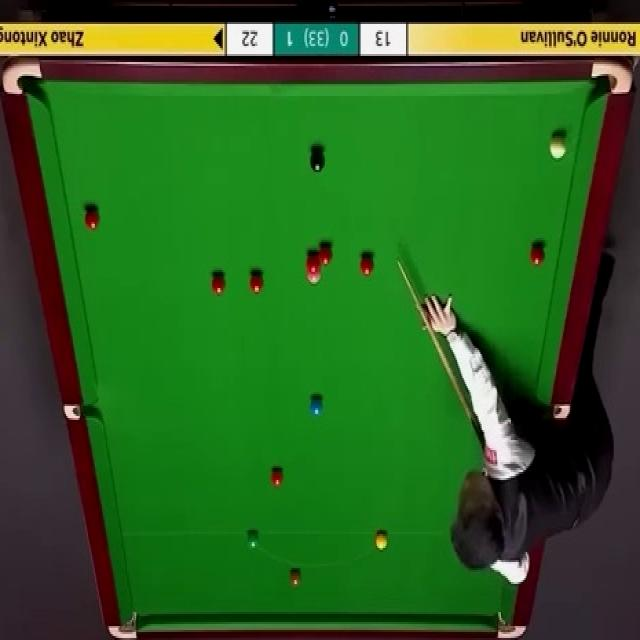black-ball: (309, 149, 325, 173)
blue-ball: (310, 396, 325, 418)
brown-ball: (289, 568, 302, 588)
green-ball: (247, 530, 260, 551)
pink-ball: (306, 270, 322, 284)
red-ball: (528, 240, 544, 268), (269, 466, 286, 488), (249, 271, 265, 294), (305, 252, 322, 273), (360, 254, 375, 276), (212, 272, 226, 295), (85, 207, 100, 228), (318, 248, 332, 264)
white-ball: (550, 136, 568, 161)
yellow-ball: (375, 531, 388, 552)
